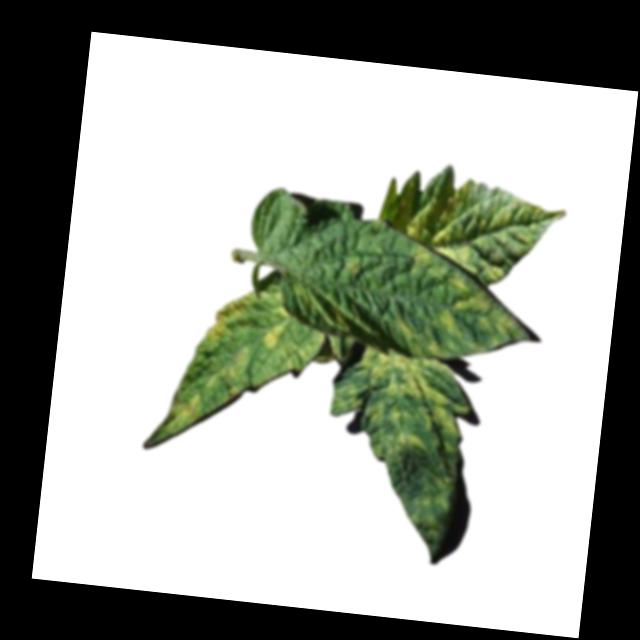Leaf_Mold: (376, 163, 566, 285), (326, 341, 481, 461), (395, 269, 546, 368), (164, 342, 264, 444), (202, 284, 263, 354), (261, 302, 300, 362)
